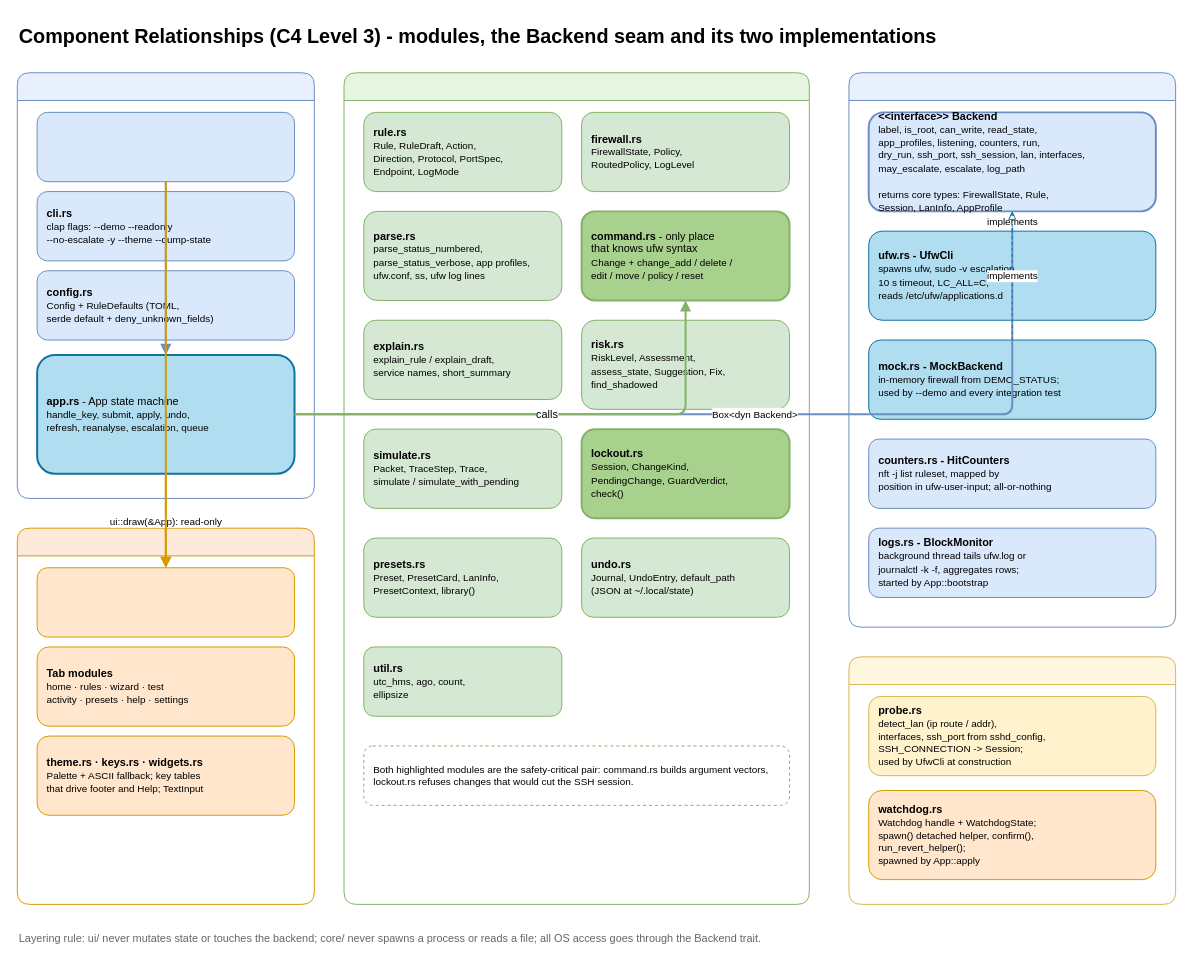
Some shapes in this 1193 by 970 pixel diagram are drawn without their labels. The shapes that lost their labels are listed below. From the top down, each one's box as (x1, y1, x2, y2) in pixels, then its label:
(36, 111, 295, 182): main.rs Cli -> Config -> backend -> App TerminalGuard, event loop, dump_state
(16, 72, 314, 498): Entry and orchestration
(848, 72, 1176, 627): backend/ - the Backend seam
(343, 72, 809, 904): core/ - pure logic (no I/O, no terminal)
(36, 567, 295, 637): ui/mod.rs draw(frame, &App): header, tabs, status, watchdog, footer, modals
(16, 527, 314, 904): ui/ - rendering only
(848, 656, 1176, 904): Probing and side effects
